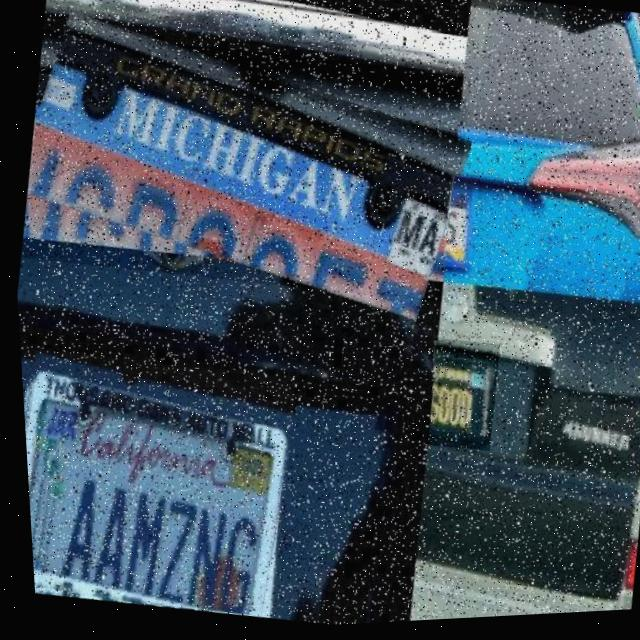LicensePlate: (7, 13, 481, 325), (16, 337, 302, 630), (415, 340, 501, 458), (440, 181, 475, 269)
